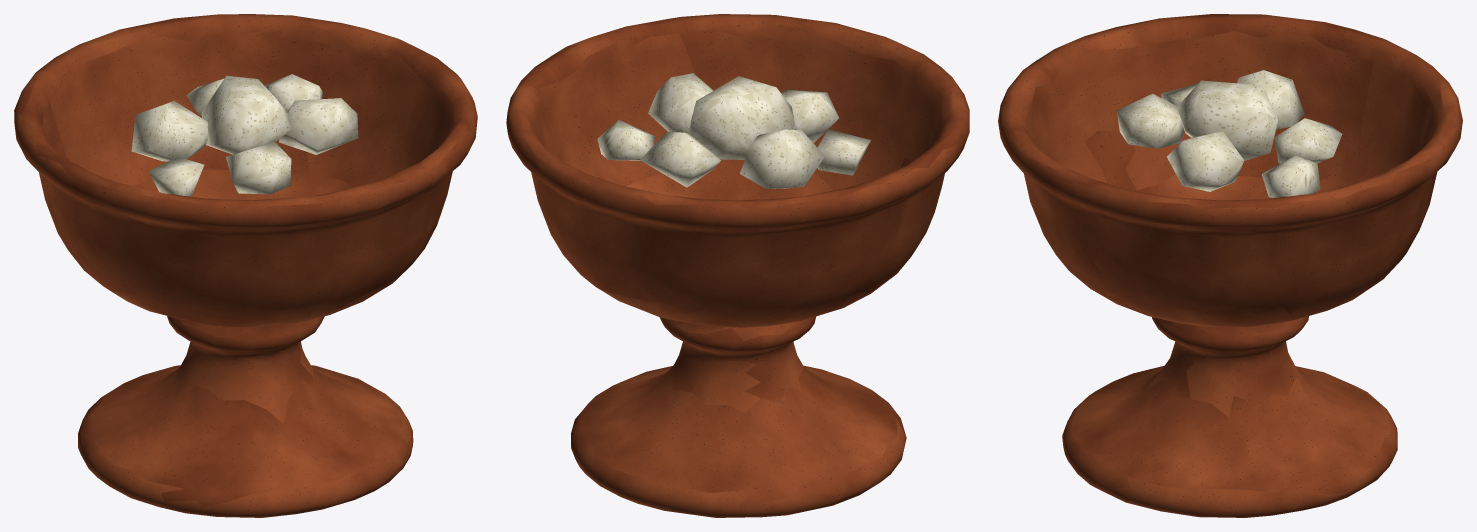
The model's file is copalero_lod.obj.
3 renders of one model, left to right at view 1: azimuth 30°, elevation 25°; view 2: azimuth 150°, elevation 25°; view 3: azimuth 270°, elevation 25°, orthographic.
Visible parts, largest first — view 1: Copalero_Cuerpo, Copal_Trozos; view 2: Copalero_Cuerpo, Copal_Trozos; view 3: Copalero_Cuerpo, Copal_Trozos.
Part boxes in pixels (<box>): Copalero_Cuerpo: <box>14,14,477,517</box>; Copal_Trozos: <box>131,74,358,196</box>; Copalero_Cuerpo: <box>506,14,969,517</box>; Copal_Trozos: <box>597,73,870,188</box>; Copalero_Cuerpo: <box>998,14,1462,517</box>; Copal_Trozos: <box>1116,70,1342,198</box>.
Bounding box in the file's own units: 0.274 × 0.2387 × 0.2746.
2 materials, 2 textured.
